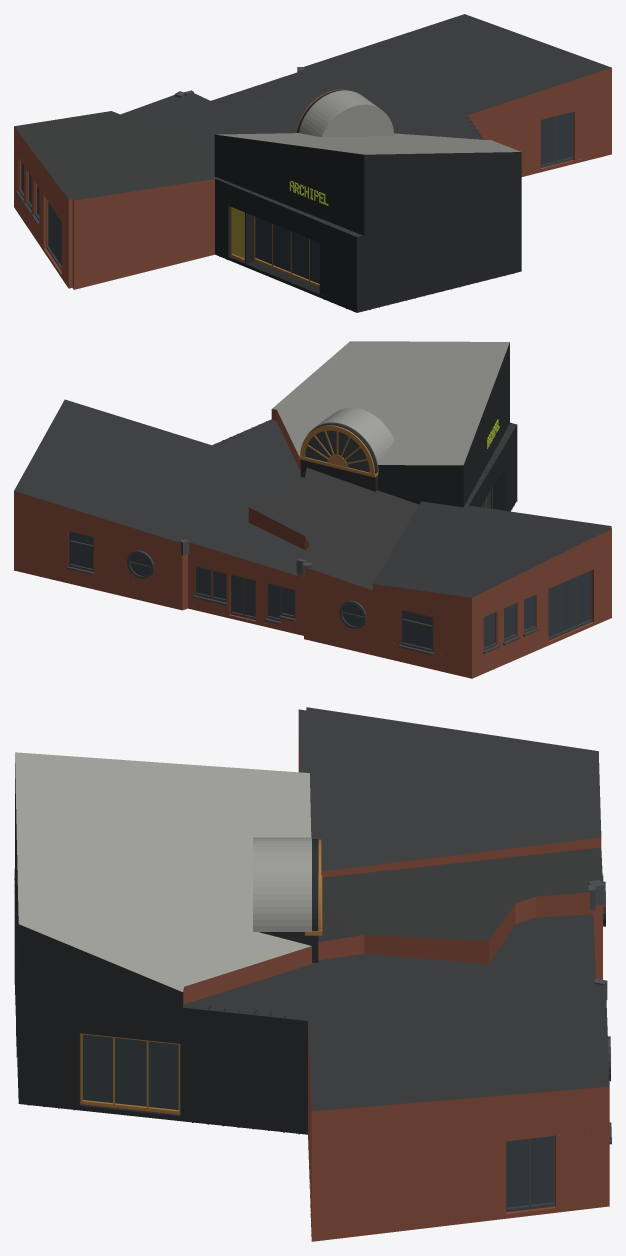
The model's file is archipel-makassarplein.glb.
The picture shows the model from 3 angles, top to bottom: view 1: azimuth 30°, elevation 25°; view 2: azimuth 150°, elevation 25°; view 3: azimuth 270°, elevation 25°; orthographic projection. The views are drawn at different scales.
Visible parts, largest first — view 1: archipel-makassarplein; view 2: archipel-makassarplein; view 3: archipel-makassarplein.
Boxes of the visible parts, x1,y1,x2,y2 form: archipel-makassarplein: (14,14,611,312); archipel-makassarplein: (14,341,611,678); archipel-makassarplein: (14,707,611,1241).
Bounding box in the file's own units: 27.21 × 7.46 × 17.19.
